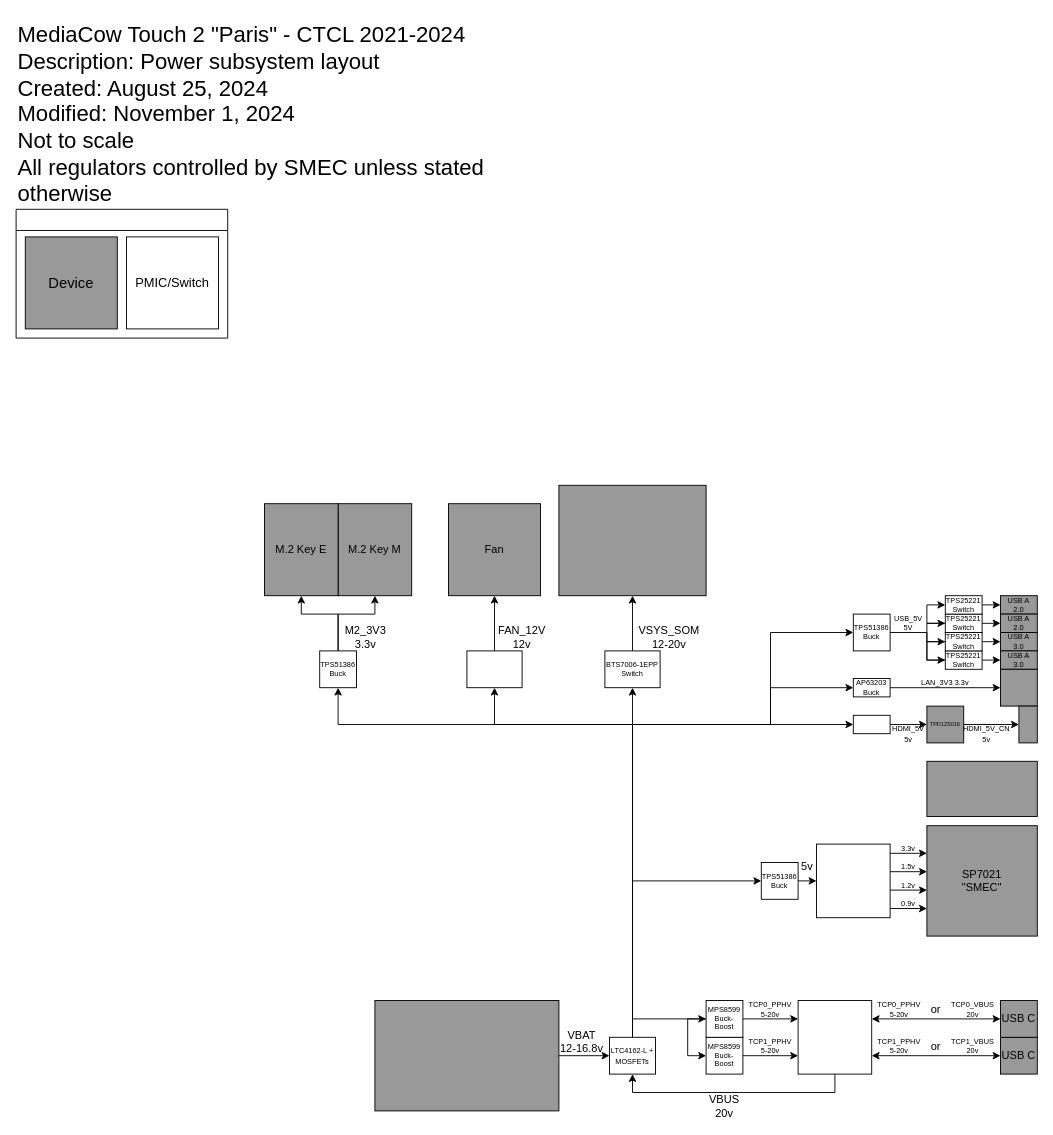
This 1053x1135 diagram has some shape labels left out. The box of each missing label's shape, as (x1, y1, x2, y2) in pixels:
AP63205 Buck: (852, 714, 890, 734)
Battery Pack: (374, 1000, 559, 1111)
HDMI: (1018, 705, 1037, 743)
Intel I210 + W25Q16 JVSS: (1000, 668, 1037, 706)
LattePanda Mu: (558, 484, 706, 596)
Side Display: (926, 760, 1037, 816)
TPS563300 Buck: (466, 650, 522, 688)
TPS65400 Quad Buck: (816, 843, 890, 918)
TPS65988 + MOSFETs: (797, 1000, 872, 1074)
Vertical Container: (15, 208, 228, 338)
